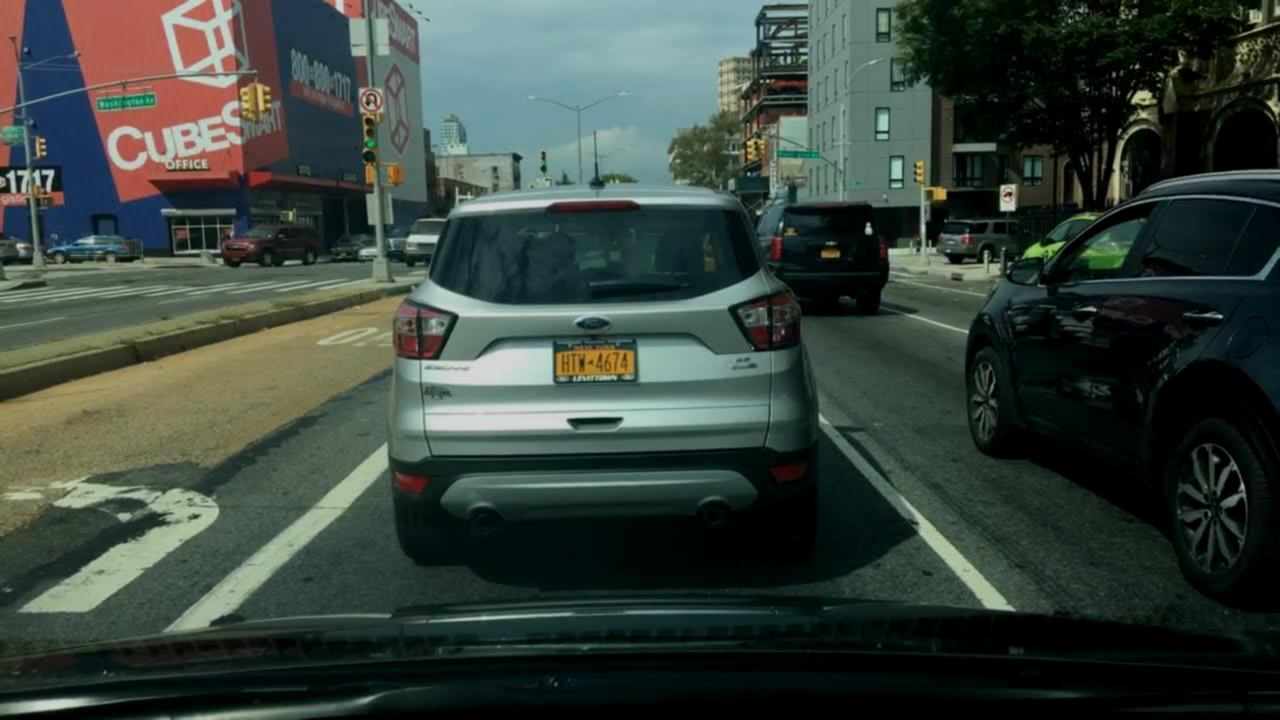chevrolet: (824, 237, 843, 251)
ford: (568, 309, 621, 337)
